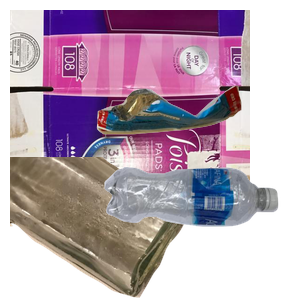cardboard: (10, 10, 250, 190)
glass: (10, 157, 190, 300)
plastic: (102, 165, 300, 300)
trash: (94, 83, 300, 210)
